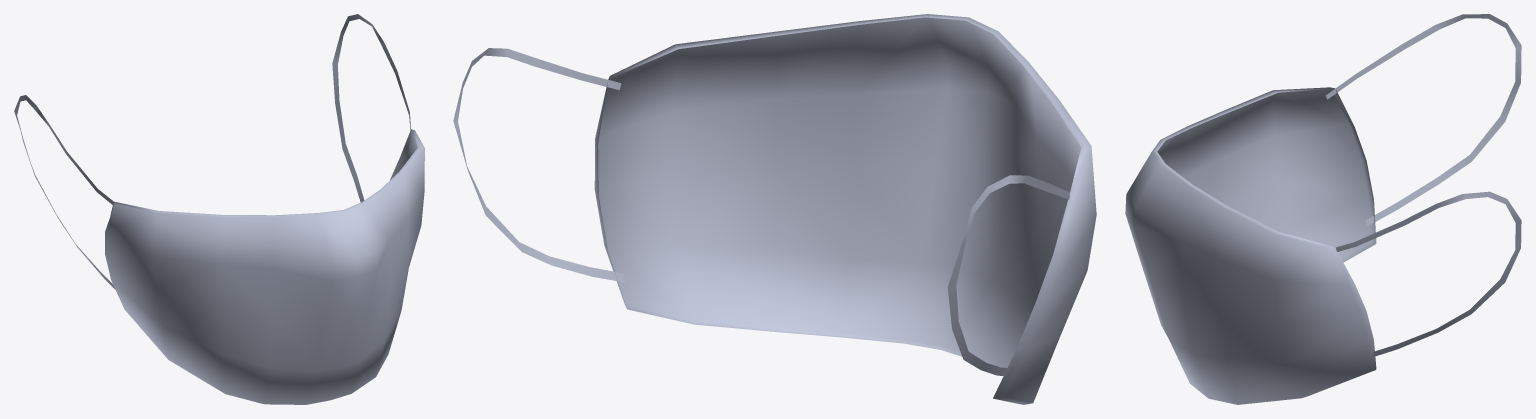
The model's file is mask.dae.
The picture shows the model from 3 angles, left to right: view 1: azimuth 30°, elevation 25°; view 2: azimuth 150°, elevation 25°; view 3: azimuth 270°, elevation 25°; orthographic projection. The views are drawn at different scales.
Visible parts, largest first — view 1: B_M7M_Ahd_GauzeMask_AA; view 2: B_M7M_Ahd_GauzeMask_AA; view 3: B_M7M_Ahd_GauzeMask_AA.
Boxes of the visible parts, x1,y1,x2,y2 form: B_M7M_Ahd_GauzeMask_AA: [14, 14, 424, 404]; B_M7M_Ahd_GauzeMask_AA: [453, 14, 1096, 404]; B_M7M_Ahd_GauzeMask_AA: [1125, 14, 1521, 404].
Bounding box in the file's own units: 0.175 × 0.1619 × 0.1213.
